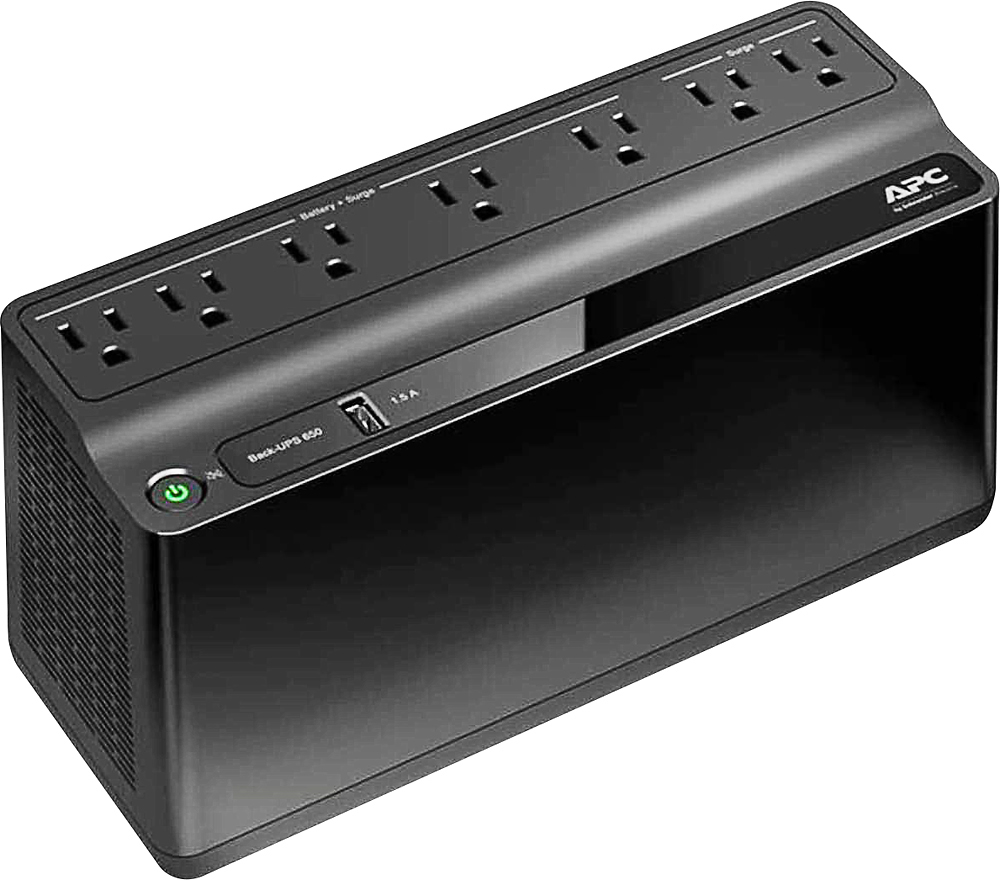UPS: (1, 2, 998, 879)
